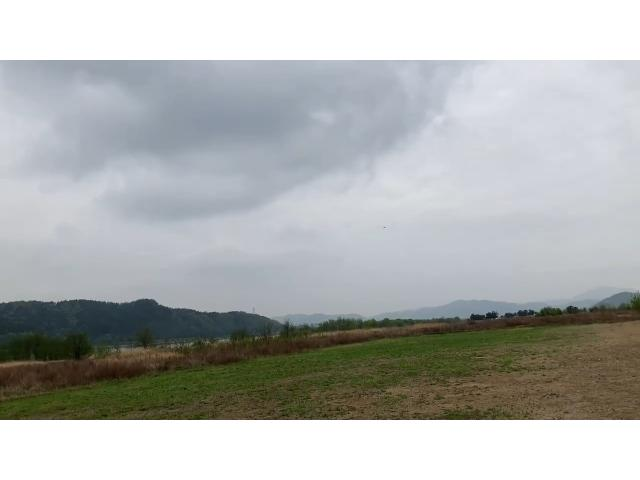Anti-Drone: (374, 221, 392, 235)
